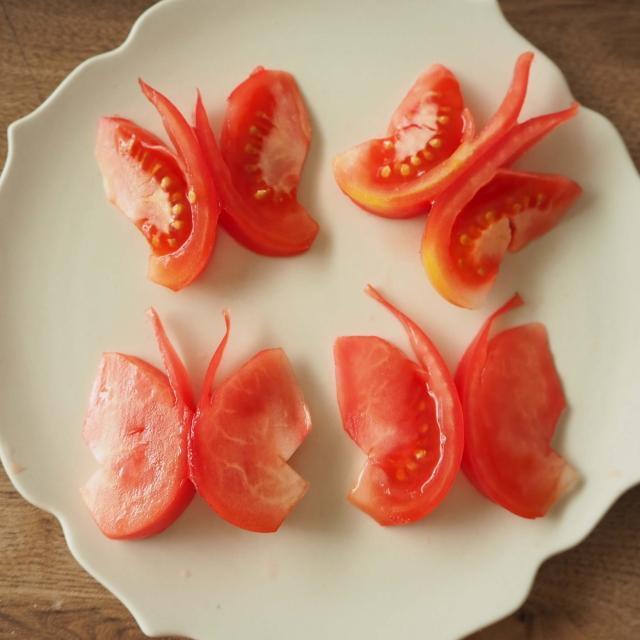Tomato: (332, 46, 540, 228), (418, 103, 584, 312), (328, 325, 468, 532), (90, 74, 220, 294), (190, 329, 318, 539), (456, 310, 583, 520), (211, 59, 323, 271), (84, 326, 192, 543)
